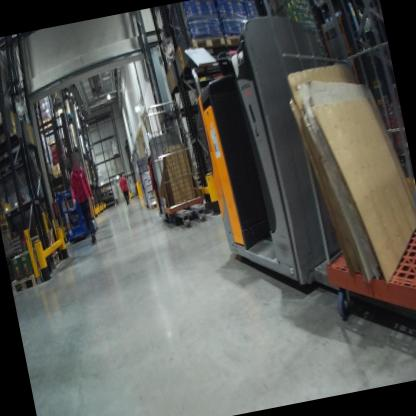forklift: (35, 102, 110, 251)
pallet: (188, 24, 265, 57), (9, 255, 61, 297), (0, 110, 23, 159), (0, 221, 13, 234)
pallet_truck: (178, 0, 398, 314), (138, 124, 215, 237)
